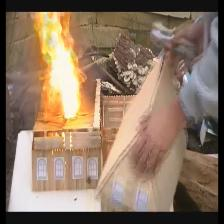fire: (32, 9, 91, 119)
